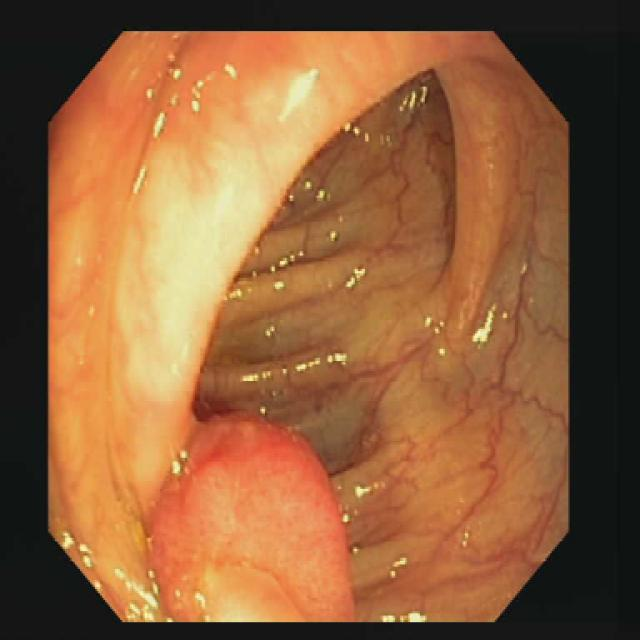tumor: (150, 418, 353, 620)
